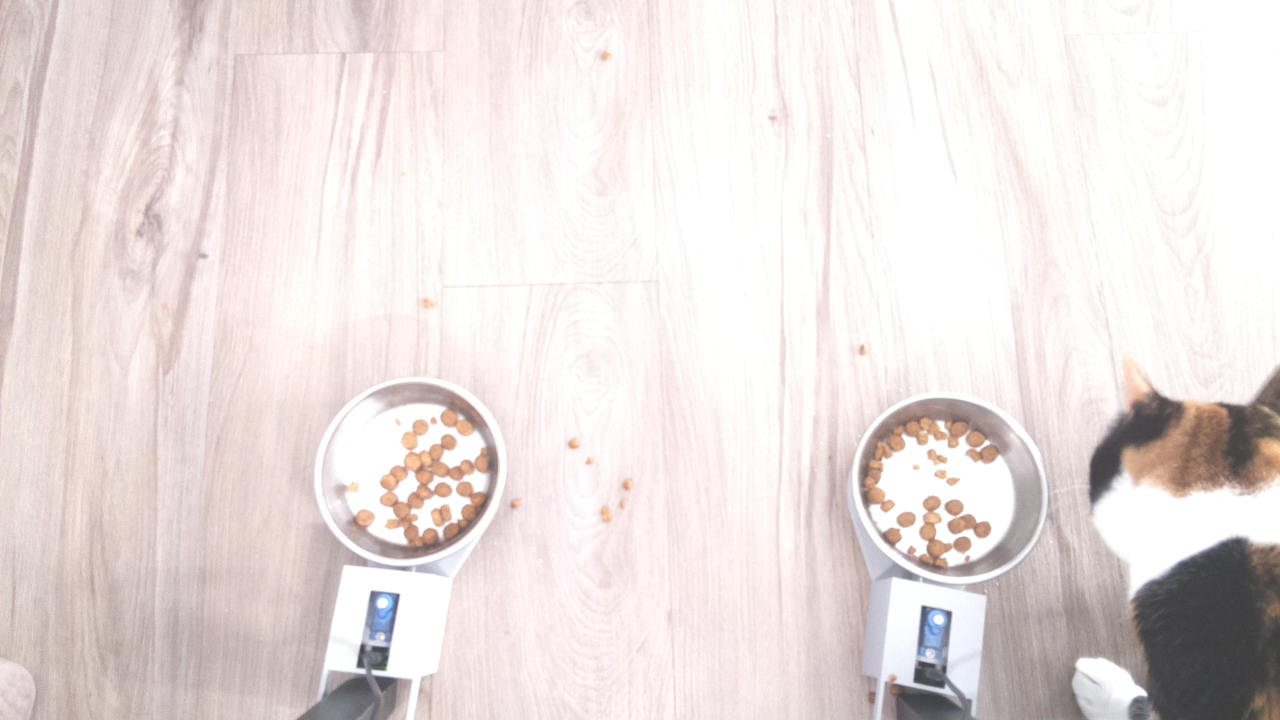bella: (1066, 346, 1280, 583)
open_bowl: (841, 386, 1050, 587), (308, 373, 512, 576)
